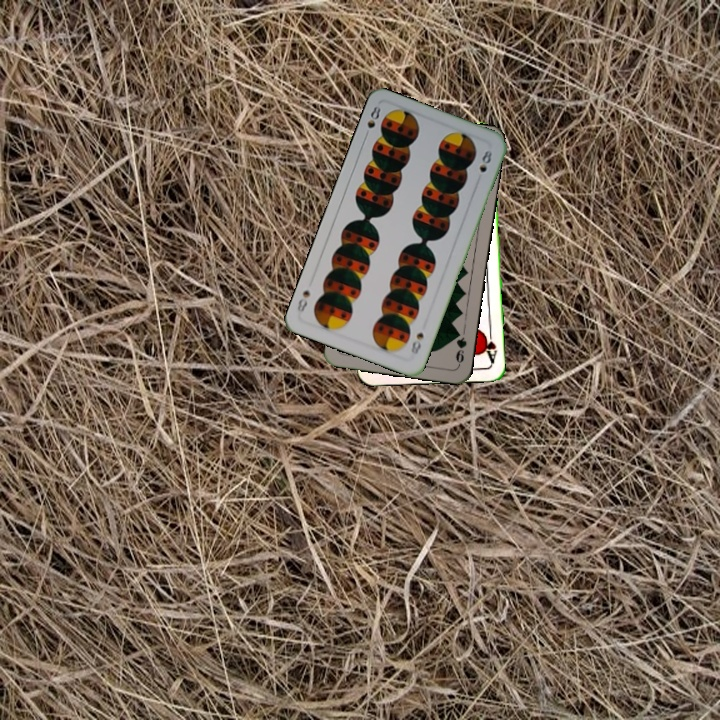G9: (451, 326, 469, 368)
HA: (480, 325, 500, 365)
S8: (360, 101, 383, 141), (407, 328, 427, 357)
